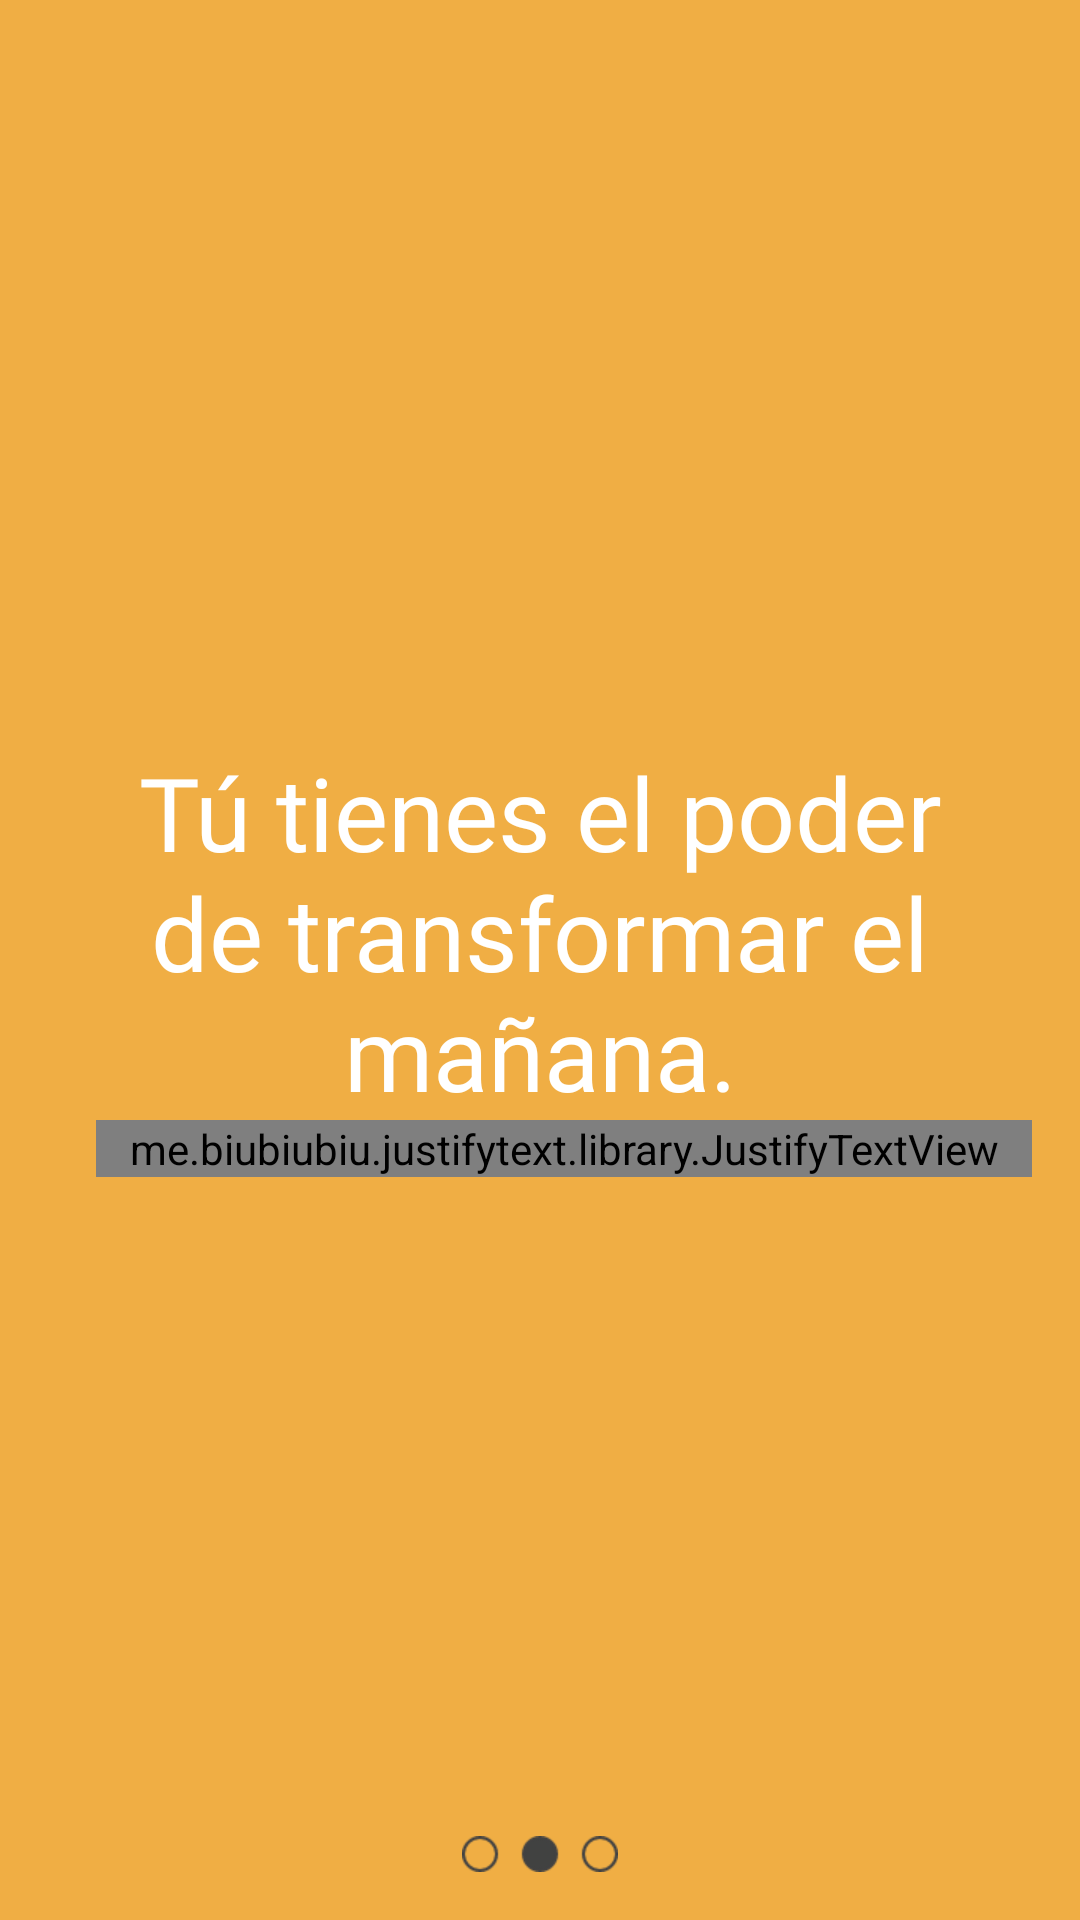

Screen size 1080*1920. Icon name, then its center in pixels as (x,y):
dots: (540,1854)
